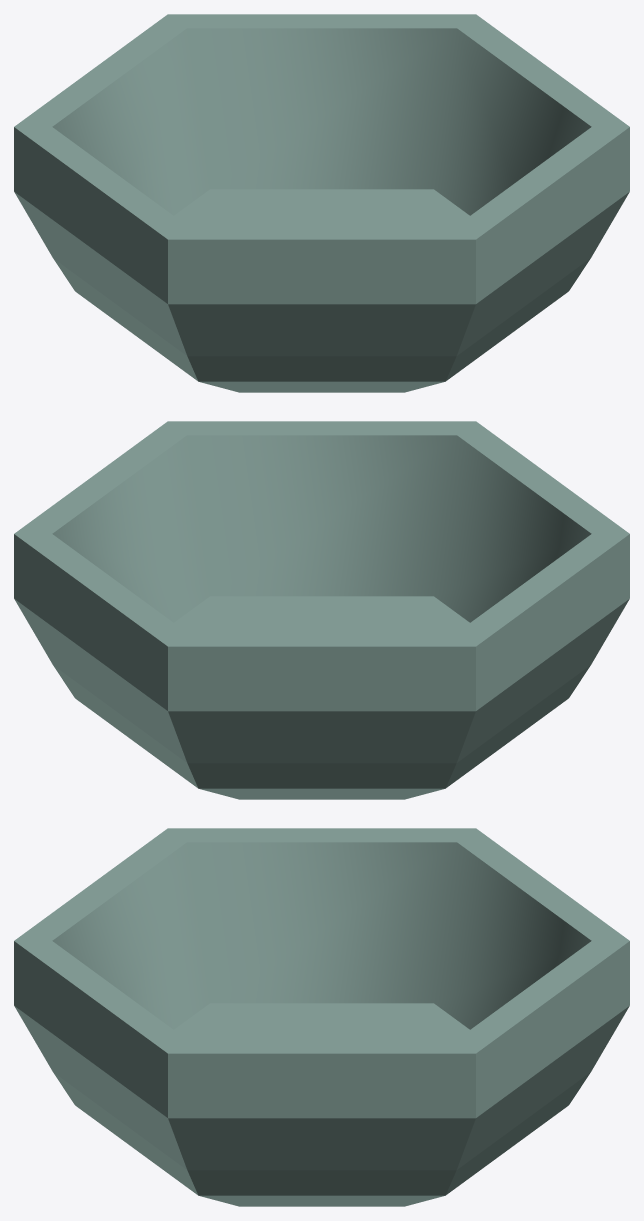
File: enamel_bowl.glb
3 views of the same model, one above another, from view 1: azimuth 30°, elevation 25°; view 2: azimuth 150°, elevation 25°; view 3: azimuth 270°, elevation 25° (orthographic).
Visible parts, largest first — view 1: enamel_bowl; view 2: enamel_bowl; view 3: enamel_bowl.
Boxes of the visible parts, x1,y1,x2,y2 form: enamel_bowl: [14, 14, 629, 392]; enamel_bowl: [14, 421, 629, 799]; enamel_bowl: [14, 828, 629, 1206].
Bounding box in the file's own units: 0.5022 × 0.2138 × 0.5798.
